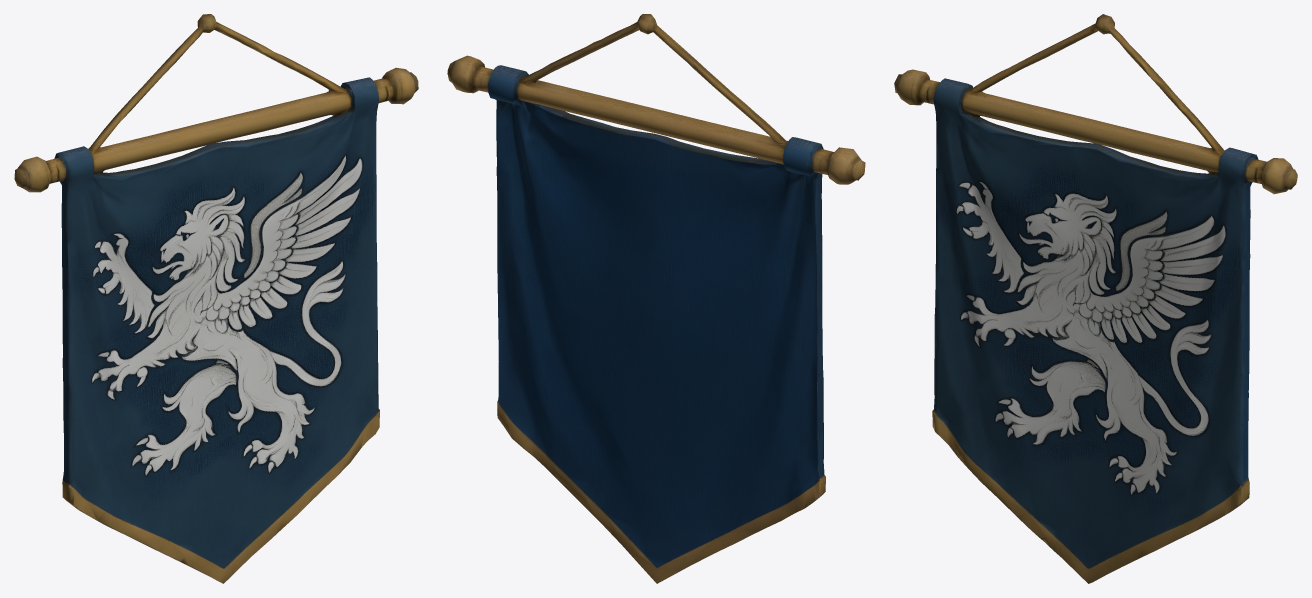
The model's file is obj_banner_good.glb.
The picture shows the model from 3 angles, left to right: view 1: azimuth 30°, elevation 25°; view 2: azimuth 150°, elevation 25°; view 3: azimuth 330°, elevation 25°; orthographic projection. The views are drawn at different scales.
Visible parts, largest first — view 1: Mesh_0; view 2: Mesh_0; view 3: Mesh_0.
Boxes of the visible parts, x1,y1,x2,y2 form: Mesh_0: (14, 14, 418, 583); Mesh_0: (447, 14, 865, 583); Mesh_0: (894, 14, 1297, 583).
Bounding box in the file's own units: 1.51 × 2 × 0.1591.
Materials: 1 (1 with a texture image).
